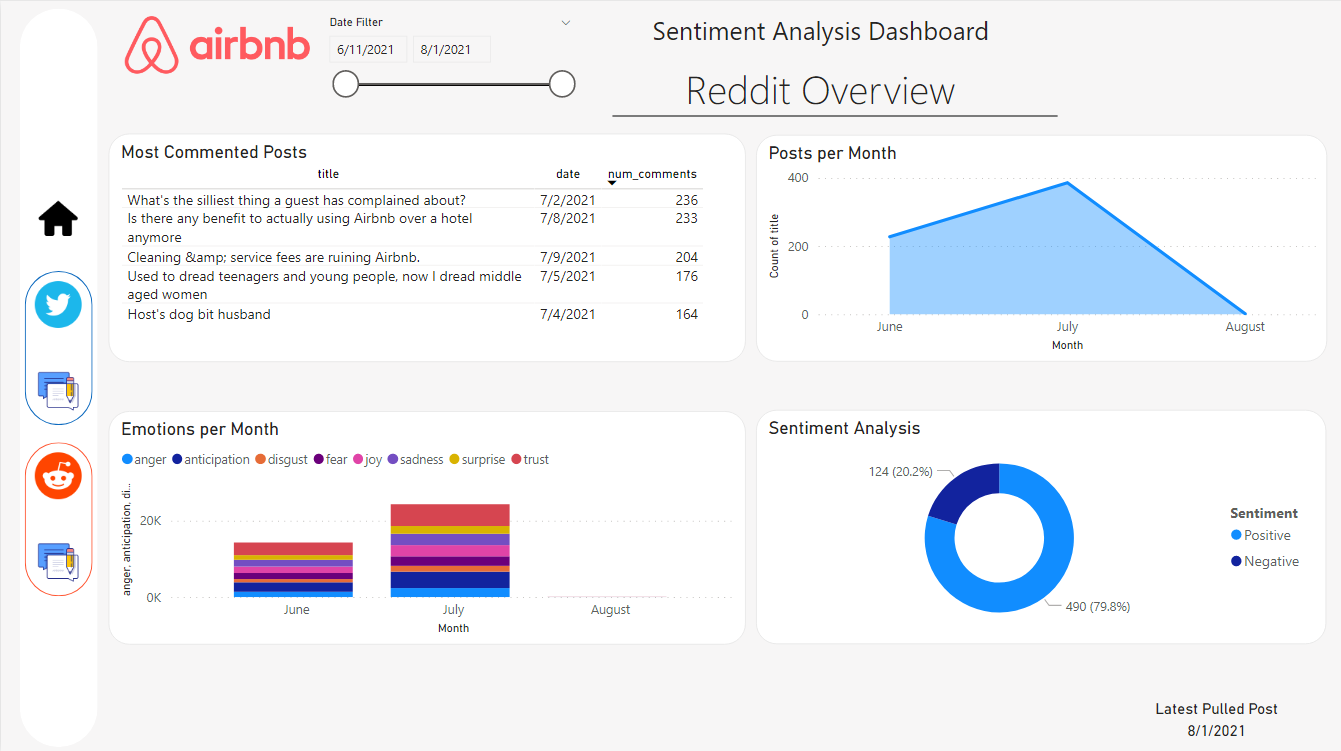

This screenshot's page, from the dashboard's own definition file:
{"tool":"powerbi","page":{"name":"Reddit Overview","canvas":[1280,720],"ordinal":3},"visuals":[{"type":"shape","box":[17.9,6.9,74.2,705.9],"z":0},{"type":"image","box":[114,6.9,186.8,68.7],"z":1000},{"type":"textbox","box":[354.3,6.9,857,46.7],"z":2000},{"type":"textbox","box":[320,53.6,925.7,72.8],"z":3000},{"type":"shape","box":[583.7,104.4,425.8,12.4],"z":4000},{"type":"tableEx","title":"Most Commented Posts","fields":{"Values":["AirbnbRedditSentiment.title","AirbnbRedditSentiment.date","Sum(AirbnbRedditSentiment.num_comments)"]},"box":[103,126.4,608.4,218.4],"z":5000},{"type":"columnChart","title":"Emotions per Month","fields":{"Category":["AirbnbRedditSentiment.date.Variation.Date Hierarchy.Month","AirbnbRedditSentiment.date.Variation.Date Hierarchy.Day"],"Y":["Sum(AirbnbRedditSentiment.anger)","Sum(AirbnbRedditSentiment.anticipation)","Sum(AirbnbRedditSentiment.disgust)","Sum(AirbnbRedditSentiment.fear)","Sum(AirbnbRedditSentiment.joy)","Sum(AirbnbRedditSentiment.sadness)","Sum(AirbnbRedditSentiment.surprise)","Sum(AirbnbRedditSentiment.trust)"]},"box":[102.7,391.6,609,223.3],"z":6000},{"type":"areaChart","title":"Posts per Month","fields":{"Y":["CountNonNull(AirbnbRedditSentiment.title)"],"Category":["AirbnbRedditSentiment.date.Variation.Date Hierarchy.Year","AirbnbRedditSentiment.date.Variation.Date Hierarchy.Quarter","AirbnbRedditSentiment.date.Variation.Date Hierarchy.Month","AirbnbRedditSentiment.date.Variation.Date Hierarchy.Day"]},"box":[721,127.7,545.2,217],"z":7000},{"type":"donutChart","title":"Sentiment Analysis","fields":{"Y":["CountNonNull(AirbnbRedditSentiment.Sentiment)"],"Category":["AirbnbRedditSentiment.Sentiment"]},"box":[721,391,545,224],"z":8000},{"type":"card","title":"Latest Pulled Post","fields":{"Values":["Max(AirbnbRedditSentiment.date)"]},"box":[1055.5,667.5,211.3,45.4],"z":10000},{"type":"image","box":[27.5,258,54.9,64.5],"z":11000},{"type":"image","box":[27.5,339.9,54.9,64.5],"z":12000},{"type":"image","box":[27.5,421.9,54.9,64.5],"z":13000},{"type":"image","box":[27.5,503.9,54.9,64.5],"z":14000},{"type":"group","title":"Group 1","box":[100.6,100.6,397.1,177.3],"z":15000},{"type":"image","box":[27.5,176,54.9,64.5],"z":16000},{"type":"shape","box":[22.7,257.9,64.5,146.9],"z":17000},{"type":"shape","box":[22.7,421.5,64.5,146.9],"z":18000},{"type":"slicer","fields":{"Values":["AirbnbRedditSentiment.date"]},"box":[300.8,8.4,256.3,108.6],"z":20000}]}

Visuals, with their boxes in screenshot pixels (x1, y1, x2, y2), scaled from the page's 1280x720 canvas onto the 1341x751 screenshot:
shape: <region>19, 7, 96, 743</region>
image: <region>119, 7, 315, 79</region>
textbox: <region>371, 7, 1269, 56</region>
textbox: <region>335, 56, 1305, 132</region>
shape: <region>612, 109, 1058, 122</region>
"Most Commented Posts" tableEx: <region>108, 132, 745, 360</region>
"Emotions per Month" columnChart: <region>108, 408, 746, 641</region>
"Posts per Month" areaChart: <region>755, 133, 1327, 360</region>
"Sentiment Analysis" donutChart: <region>755, 408, 1326, 641</region>
"Latest Pulled Post" card: <region>1106, 696, 1327, 744</region>
image: <region>29, 269, 86, 336</region>
image: <region>29, 355, 86, 422</region>
image: <region>29, 440, 86, 507</region>
image: <region>29, 526, 86, 593</region>
"Group 1" group: <region>105, 105, 521, 290</region>
image: <region>29, 184, 86, 251</region>
shape: <region>24, 269, 91, 422</region>
shape: <region>24, 440, 91, 593</region>
slicer - AirbnbRedditSentiment.date: <region>315, 9, 584, 122</region>
